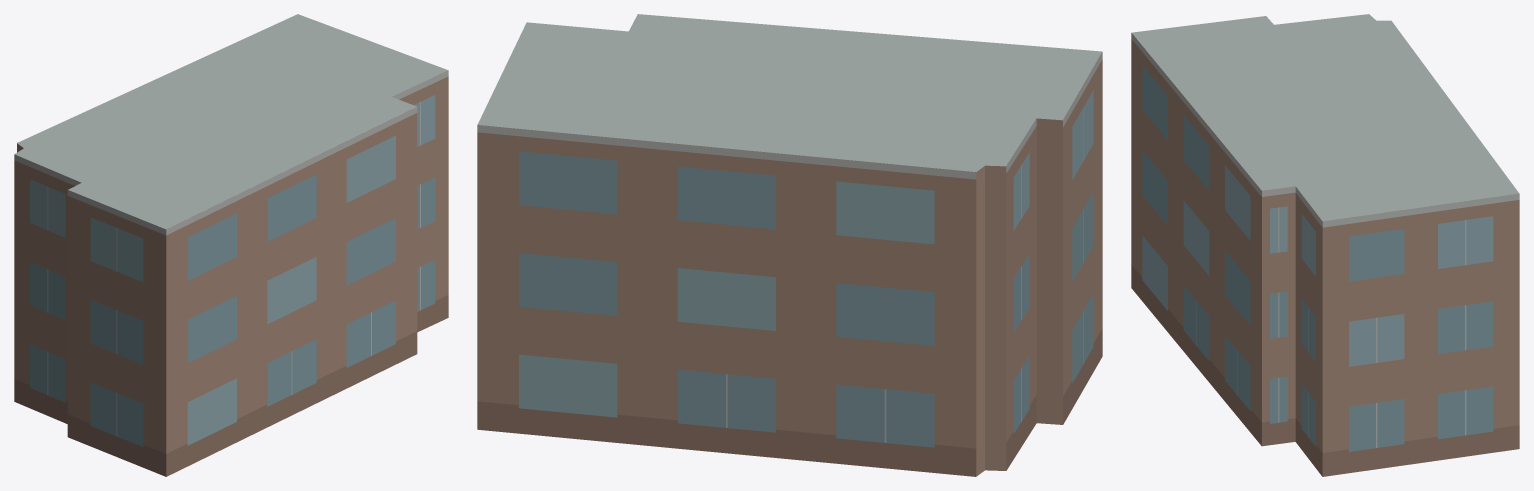
Rendered from survey-upis-32622642.glb.
3 views of the same model, side by side, from view 1: azimuth 30°, elevation 25°; view 2: azimuth 150°, elevation 25°; view 3: azimuth 270°, elevation 25° (orthographic). The views are drawn at different scales.
Parts seen in each view (by area): view 1: survey-upis-32622642.tmp; view 2: survey-upis-32622642.tmp; view 3: survey-upis-32622642.tmp.
Boxes of the visible parts, bbox=[...] form: survey-upis-32622642.tmp: bbox=[14, 14, 448, 476]; survey-upis-32622642.tmp: bbox=[477, 14, 1102, 476]; survey-upis-32622642.tmp: bbox=[1131, 14, 1519, 476].
Size of the model in its own units: 17.52 by 10.05 by 13.85.
